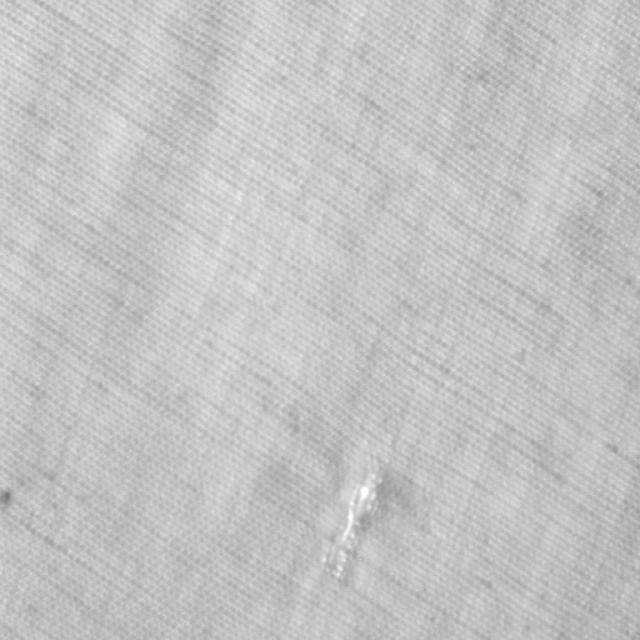hole: (318, 450, 388, 584)
